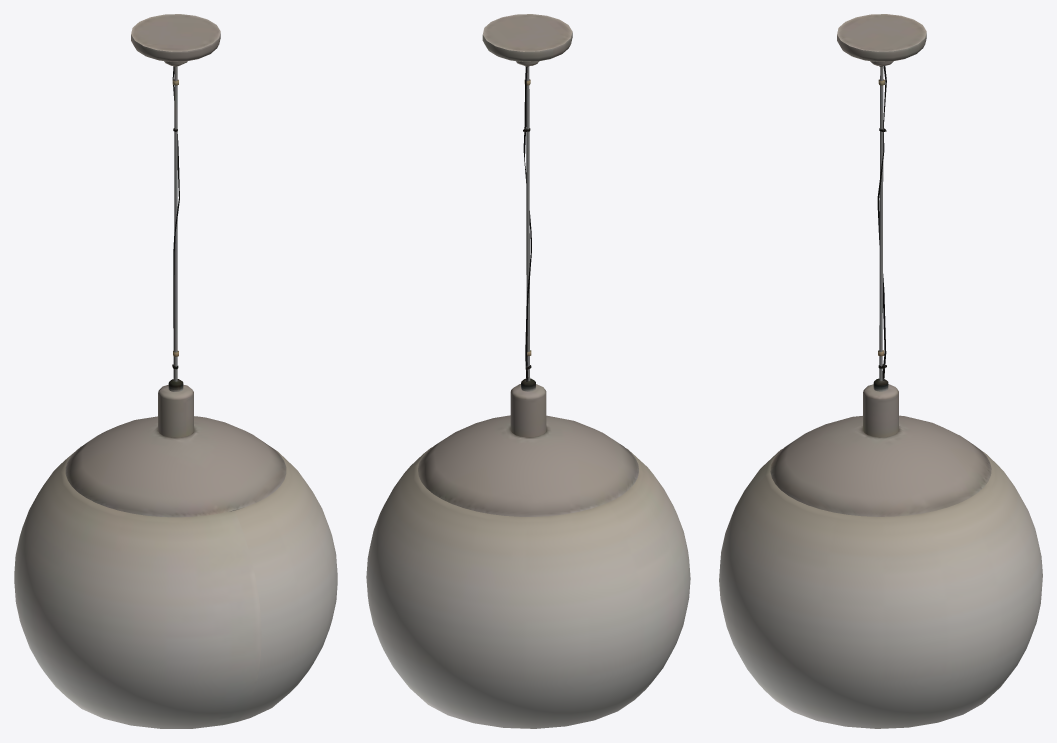
Rendered from pendant.glb.
3 renders of one model, left to right at view 1: azimuth 30°, elevation 25°; view 2: azimuth 150°, elevation 25°; view 3: azimuth 270°, elevation 25°, orthographic.
Parts seen in each view (by area): view 1: modern_ceiling_lamp_01; view 2: modern_ceiling_lamp_01; view 3: modern_ceiling_lamp_01.
Part boxes in pixels (left/top/right/bottom): modern_ceiling_lamp_01: left=14, top=14, right=337, bottom=728; modern_ceiling_lamp_01: left=366, top=14, right=690, bottom=728; modern_ceiling_lamp_01: left=719, top=14, right=1042, bottom=728.
Bounding box in the file's own units: 0.4316 × 0.9512 × 0.4316.
2 materials, 2 textured.
